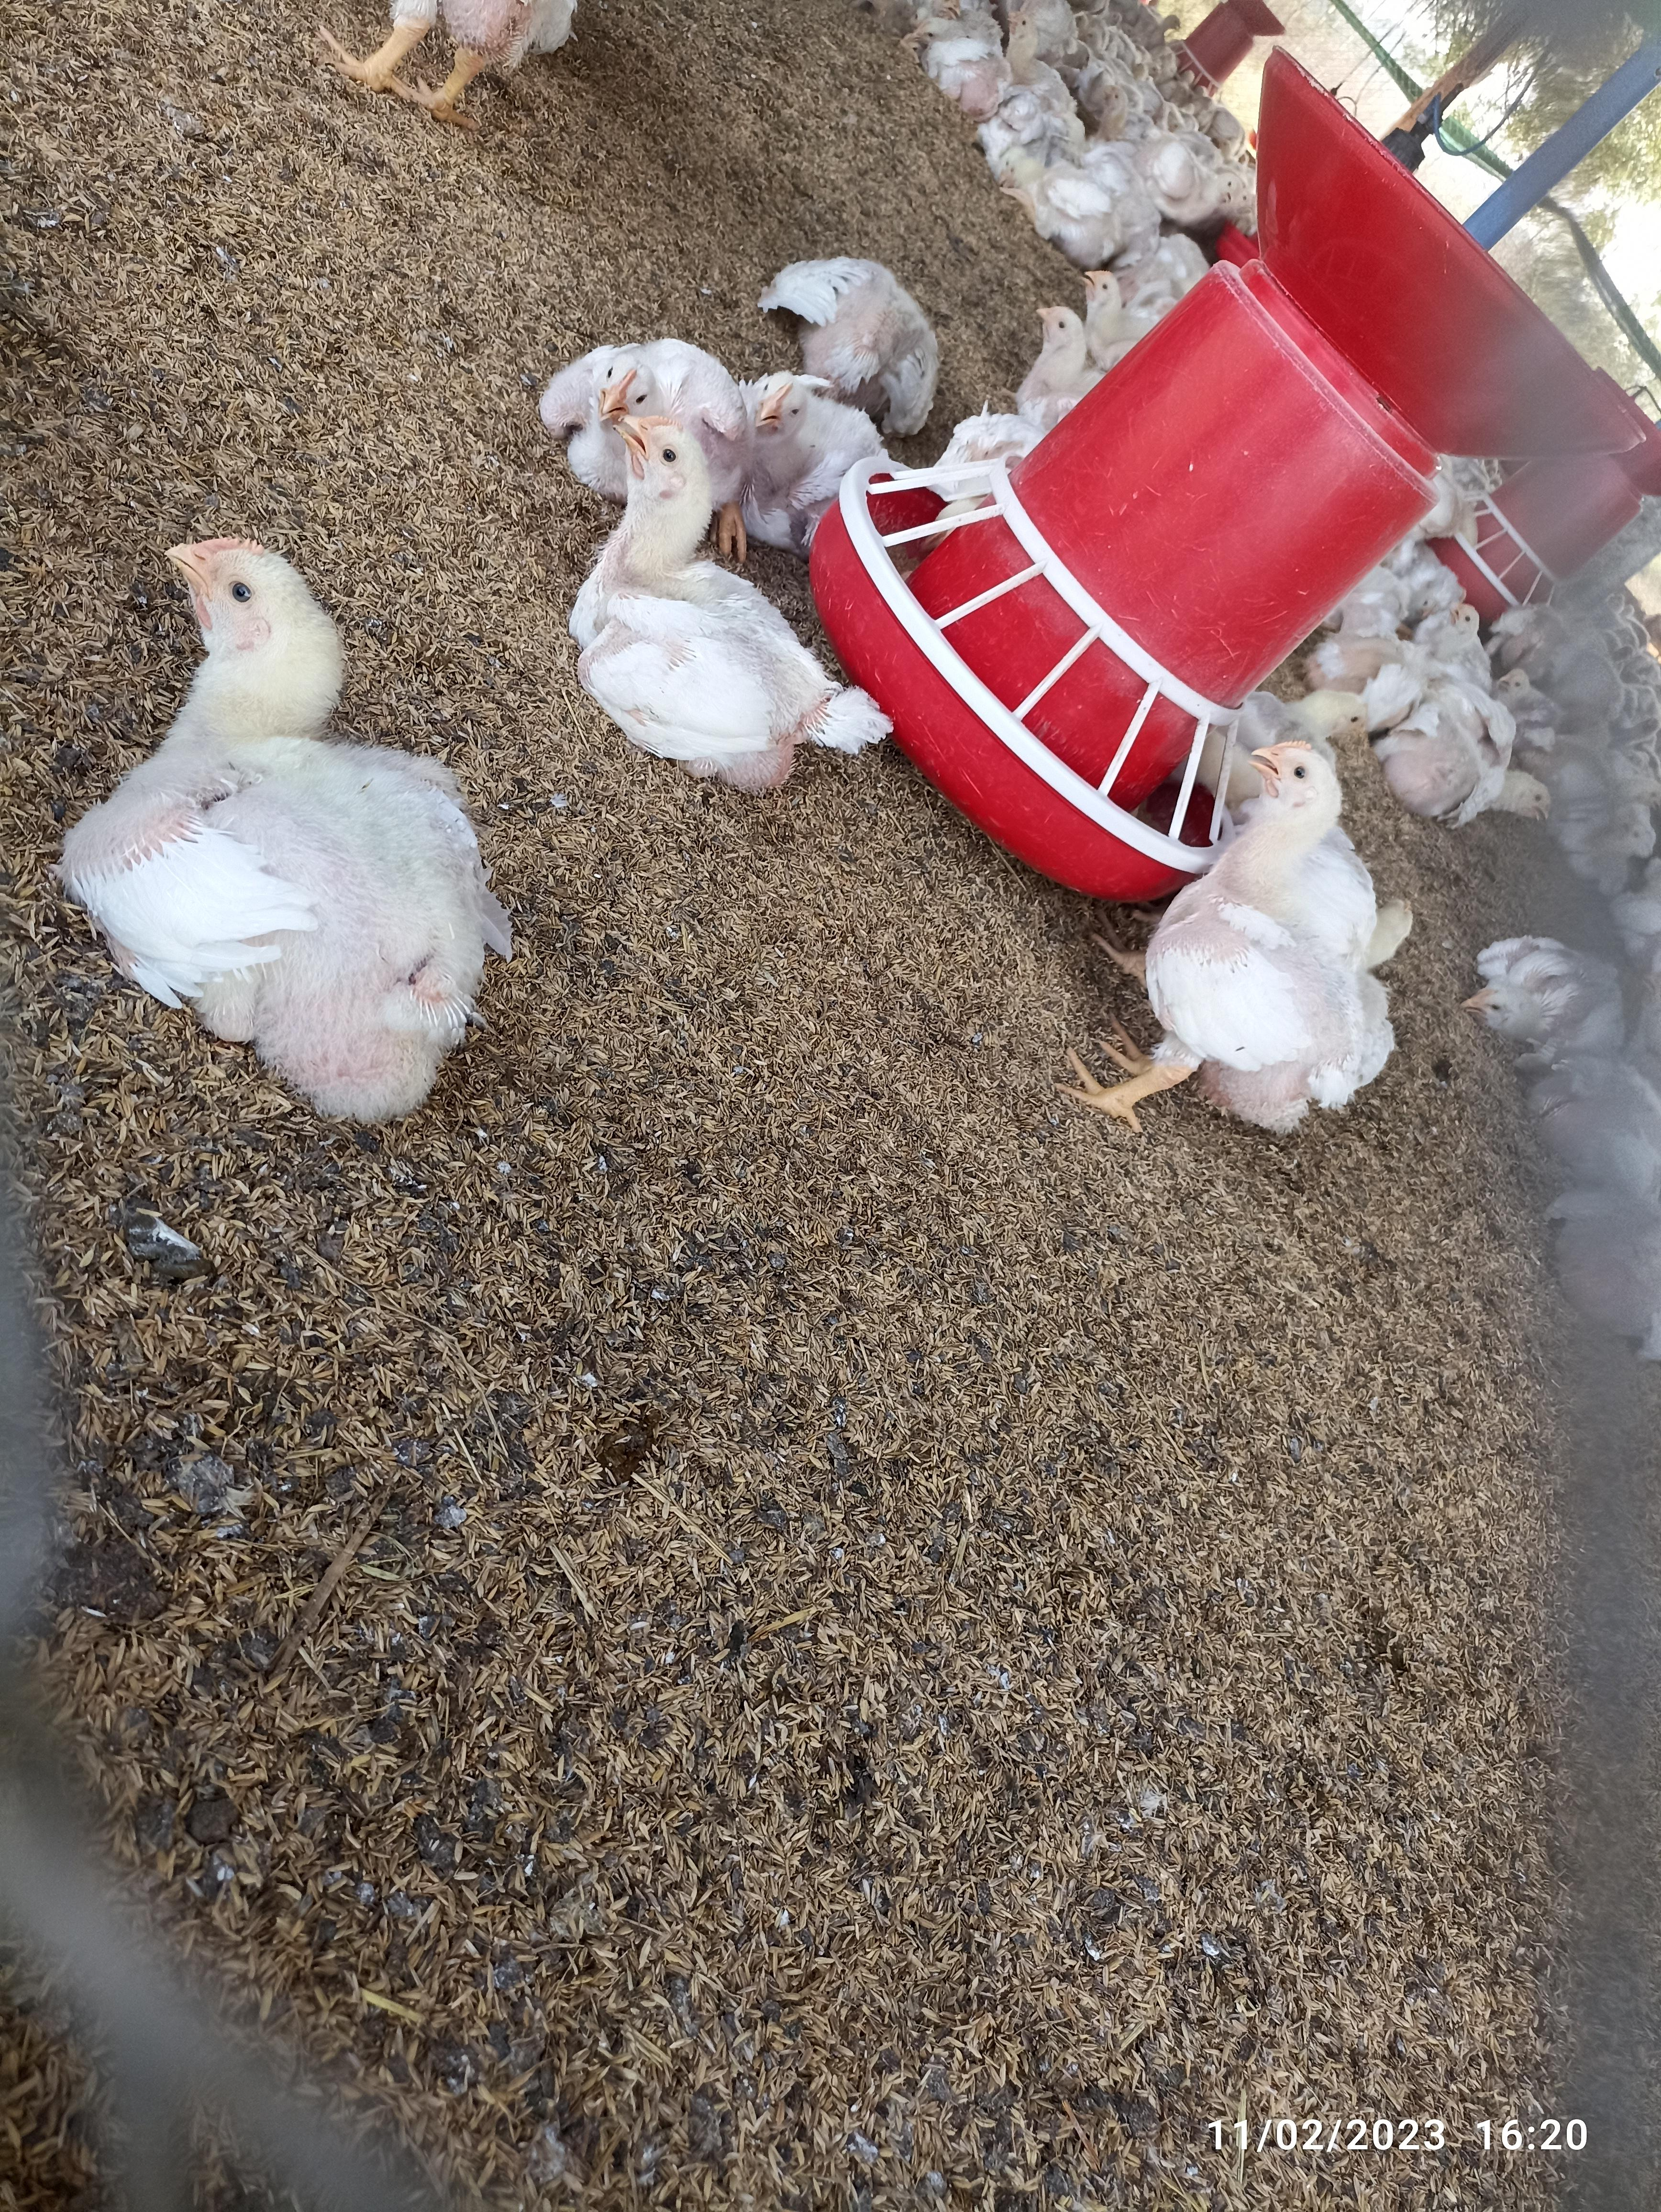Pollos: (77, 527, 515, 1113), (569, 408, 902, 792), (1136, 722, 1392, 1139)
